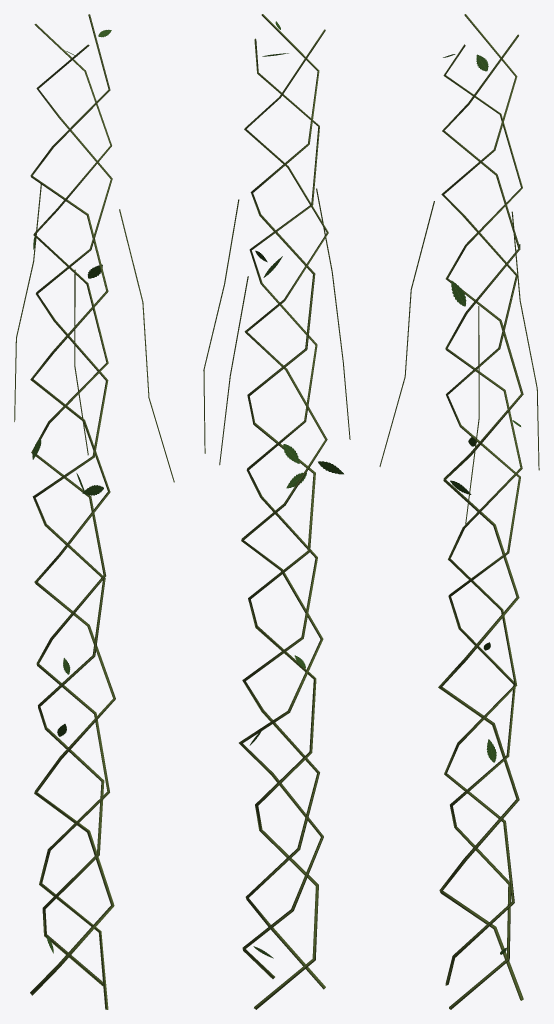
Rendered from liana_climb_thorn_08_lod2.gltf.
The picture shows the model from 3 angles, left to right: view 1: azimuth 90°, elevation 25°; view 2: azimuth 150°, elevation 25°; view 3: azimuth 270°, elevation 25°; orthographic projection.
Visible parts, largest first — view 1: liana_climb_thorn_08; view 2: liana_climb_thorn_08; view 3: liana_climb_thorn_08.
Boxes of the visible parts, left/top/right/bottom form: liana_climb_thorn_08: left=14, top=14, right=174, bottom=1009; liana_climb_thorn_08: left=203, top=14, right=350, bottom=1009; liana_climb_thorn_08: left=379, top=14, right=539, bottom=1009.
Size of the model in its own units: 0.7079 by 5.01 by 0.7515.
2 materials, 2 textured.
